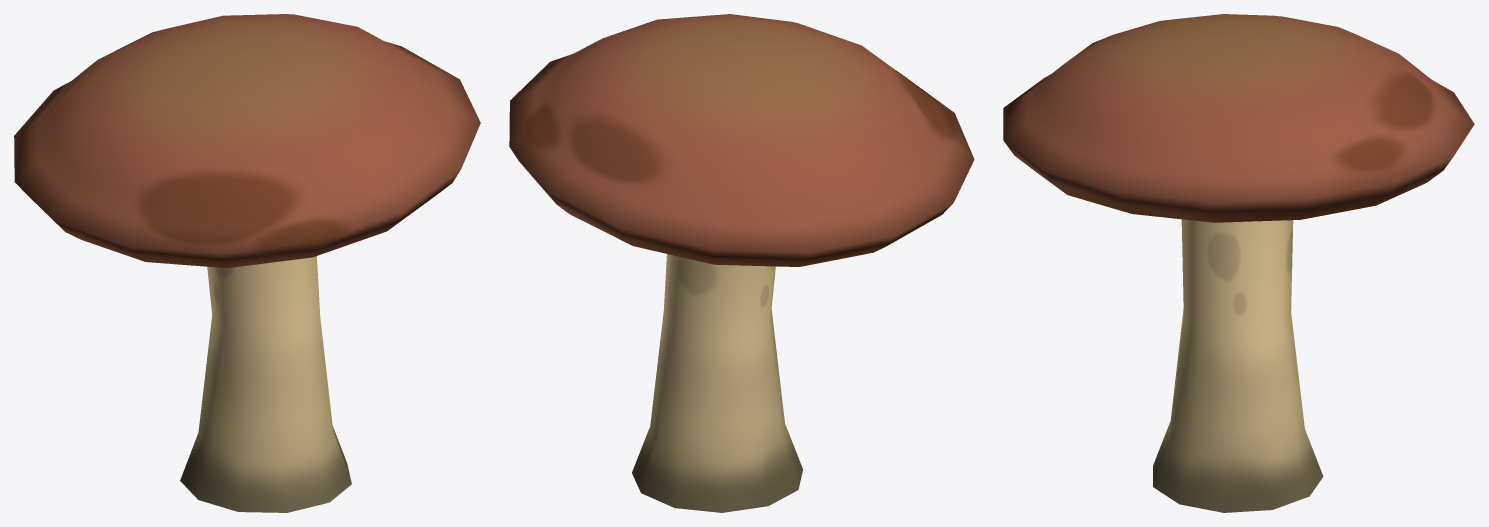
Rendered from mushroom-6.fbx.
3 renders of one model, left to right at view 1: azimuth 30°, elevation 25°; view 2: azimuth 150°, elevation 25°; view 3: azimuth 270°, elevation 25°, orthographic.
Visible parts, largest first — view 1: Sphere.001; view 2: Sphere.001; view 3: Sphere.001.
Boxes of the visible parts, bbox=[...] form: Sphere.001: bbox=[14, 14, 480, 512]; Sphere.001: bbox=[509, 14, 974, 512]; Sphere.001: bbox=[1003, 14, 1474, 512].
Bounding box in the file's own units: 911 × 915 × 917.
